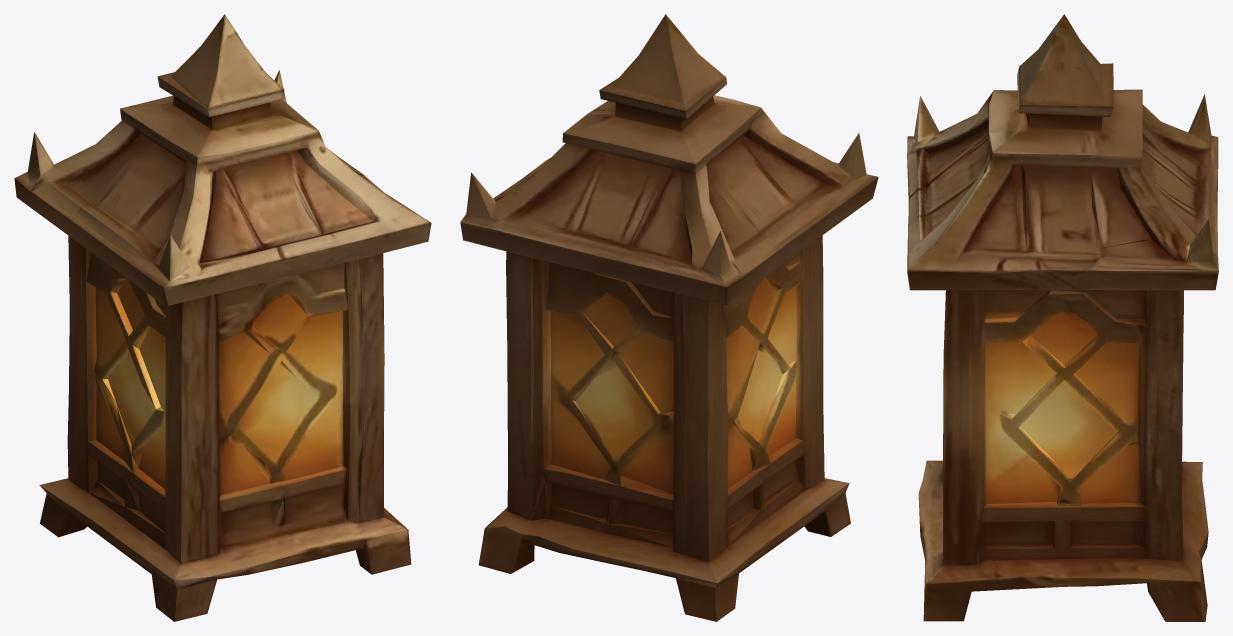
Rendered from m2TempleLantern.glb.
3 renders of one model, left to right at view 1: azimuth 30°, elevation 25°; view 2: azimuth 150°, elevation 25°; view 3: azimuth 270°, elevation 25°, orthographic. The views are drawn at different scales.
Visible parts, largest first — view 1: model; view 2: model; view 3: model.
Part boxes in pixels (x1=…): model: x1=14, y1=14, x2=431, y2=621; model: x1=460, y1=14, x2=878, y2=621; model: x1=907, y1=14, x2=1218, y2=621.
Size of the model in its own units: 1.01 by 1.91 by 0.9835.
1 material, 1 textured.
